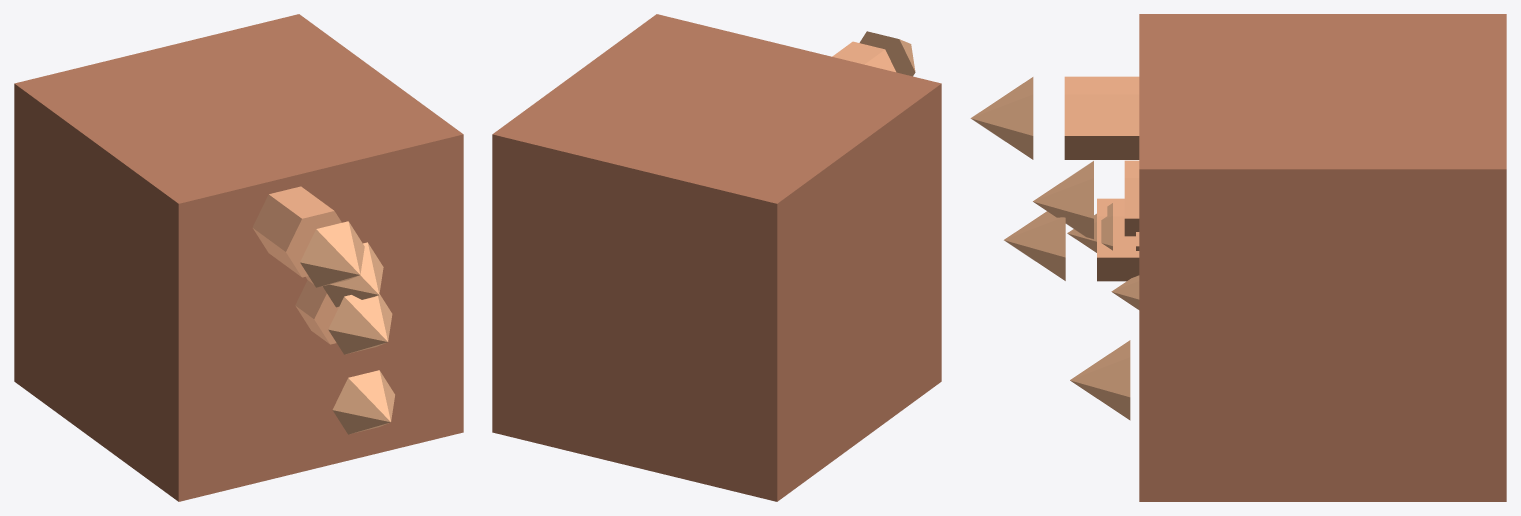
The model's file is 33_emberite.glb.
3 renders of one model, left to right at view 1: azimuth 30°, elevation 25°; view 2: azimuth 150°, elevation 25°; view 3: azimuth 270°, elevation 25°, orthographic. The views are drawn at different scales.
Visible parts, largest first — view 1: RockShell, Ore_3_shaft, Ore_3_point, Ore_4_point, Ore_1_point, Ore_2_point, Ore_1_shaft; view 2: RockShell, Ore_3_point, Ore_3_shaft; view 3: RockShell, Ore_3_shaft, Ore_3_point, Ore_1_shaft, Ore_4_point, Ore_2_point, Ore_1_point, Ore_2_shaft, Ore_0_point.
Boxes of the visible parts, x1,y1,x2,y2 form: RockShell: (14,14,463,501); Ore_3_shaft: (252,186,341,277); Ore_3_point: (300,221,364,287); Ore_4_point: (332,370,394,434); Ore_1_point: (328,294,392,354); Ore_2_point: (323,242,383,307); Ore_1_shaft: (295,280,338,344); RockShell: (492,14,941,501); Ore_3_point: (859,31,915,76); Ore_3_shaft: (832,41,895,72); RockShell: (1139,14,1506,501); Ore_3_shaft: (1064,76,1139,159); Ore_3_point: (970,77,1033,159); Ore_1_shaft: (1097,198,1139,281); Ore_4_point: (1070,340,1130,420); Ore_2_point: (1033,161,1093,239); Ore_1_point: (1004,211,1065,280); Ore_2_shaft: (1124,160,1139,236); Ore_0_point: (1067,203,1112,252).
Bounding box in the file's own units: 1.02 × 1.02 × 1.49.
